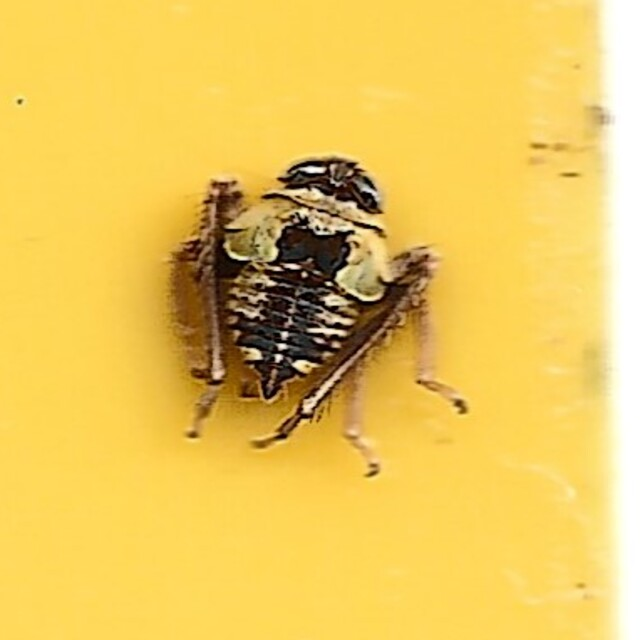Hemiptera: (168, 151, 472, 489)
